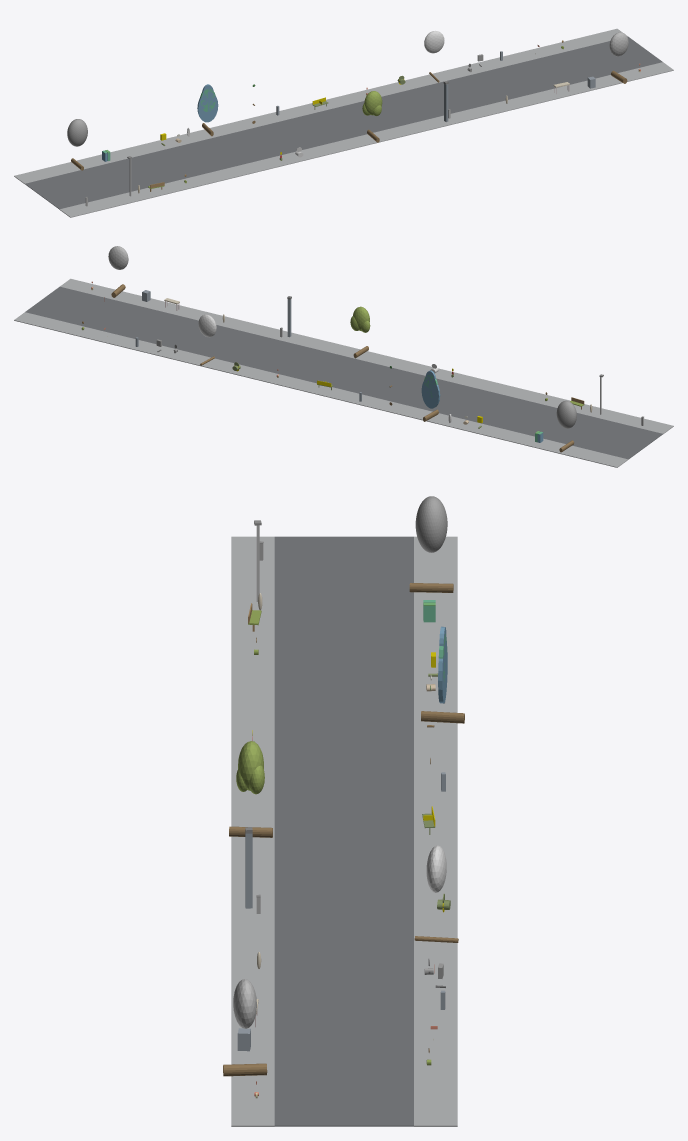
3 views of the same model, one above another, from view 1: azimuth 30°, elevation 25°; view 2: azimuth 150°, elevation 25°; view 3: azimuth 270°, elevation 25° (orthographic). The views are drawn at different scales.
Parts seen in each view (by area): view 1: road_slab, sidewalk_left, sidewalk_right, inst_0013, inst_0012, inst_0014, inst_0016, inst_0015; view 2: road_slab, sidewalk_right, sidewalk_left, inst_0013, inst_0012, inst_0014, inst_0016, inst_0015; view 3: road_slab, sidewalk_right, sidewalk_left, inst_0012, inst_0014, inst_0016, inst_0013, inst_0015.
Part boxes in pixels (box(x1,y1,x2,y2)): road_slab: box(25, 36, 662, 209); sidewalk_left: box(59, 62, 673, 217); sidewalk_right: box(14, 28, 627, 183); inst_0013: box(197, 84, 218, 136); inst_0012: box(67, 119, 87, 170); inst_0014: box(362, 91, 382, 142); inst_0016: box(609, 32, 628, 83); inst_0015: box(424, 31, 444, 82); road_slab: box(25, 286, 662, 459); sidewalk_right: box(14, 312, 628, 467); sidewalk_left: box(60, 278, 673, 434); inst_0013: box(421, 370, 440, 421); inst_0012: box(556, 400, 576, 452); inst_0014: box(350, 306, 370, 358); inst_0016: box(108, 246, 128, 297); inst_0015: box(198, 314, 216, 365); road_slab: box(274, 536, 413, 1126); sidewalk_right: box(414, 536, 457, 1126); sidewalk_left: box(231, 536, 274, 1126); inst_0012: box(409, 496, 453, 592); inst_0014: box(229, 741, 272, 837); inst_0016: box(223, 979, 267, 1076); inst_0013: box(421, 626, 464, 723); inst_0015: box(414, 845, 458, 942).
Size of the model in its own units: 80 by 6.08 by 13.89.
